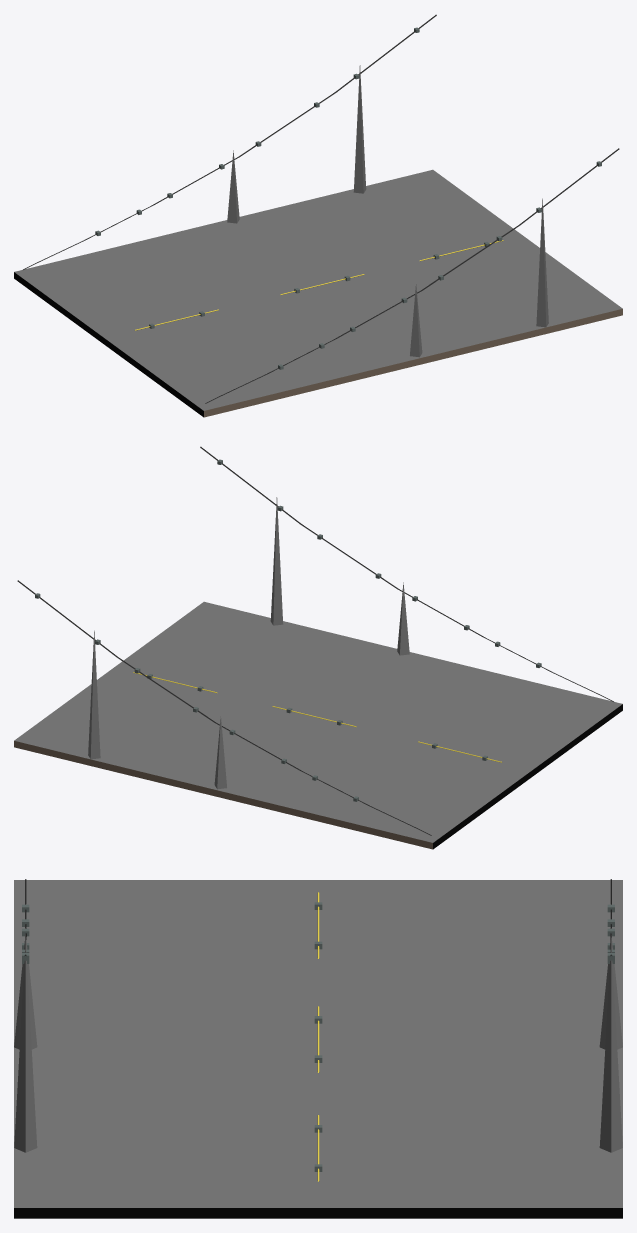
The picture shows the model from 3 angles, top to bottom: view 1: azimuth 30°, elevation 25°; view 2: azimuth 150°, elevation 25°; view 3: azimuth 270°, elevation 25°; orthographic projection. The views are drawn at different scales.
Visible parts, largest first — view 1: BR85F | archived geometry, BR85F | line, light and sprite surfaces, Fitted street and landscape details; view 2: BR85F | archived geometry, BR85F | line, light and sprite surfaces, Fitted street and landscape details; view 3: BR85F | archived geometry, Fitted street and landscape details, BR85F | line, light and sprite surfaces.
Boxes of the visible parts, x1,y1,x2,y2 form: BR85F | archived geometry: (14, 65, 622, 417); BR85F | line, light and sprite surfaces: (23, 14, 619, 403); Fitted street and landscape details: (95, 27, 601, 369); BR85F | archived geometry: (14, 497, 622, 849); BR85F | line, light and sprite surfaces: (17, 446, 613, 835); Fitted street and landscape details: (35, 459, 541, 801); BR85F | archived geometry: (14, 880, 622, 1218); Fitted street and landscape details: (22, 902, 614, 1171); BR85F | line, light and sprite surfaces: (24, 879, 612, 1181).
Size of the model in its own units: 16.57 by 6.21 by 13.
